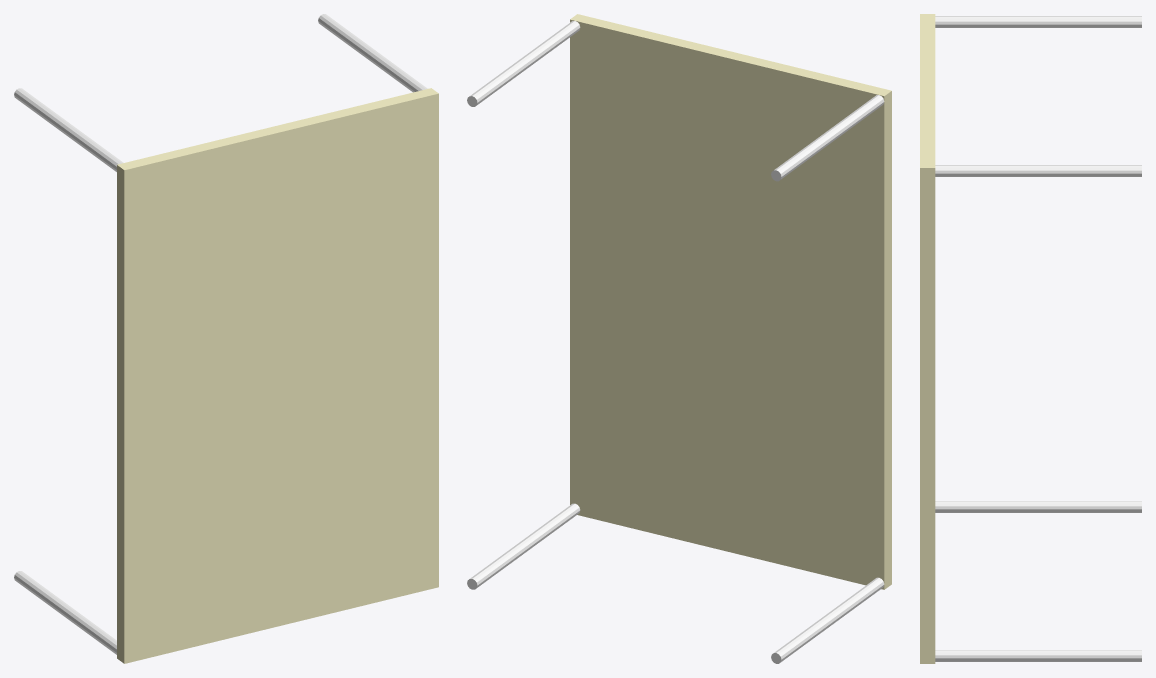
File: nil_link_mesh.dae
3 renders of one model, left to right at view 1: azimuth 30°, elevation 25°; view 2: azimuth 150°, elevation 25°; view 3: azimuth 270°, elevation 25°, orthographic.
Visible parts, largest first — view 1: nil_link (×4); view 2: nil_link (×5); view 3: nil_link (×5).
Boxes of the visible parts, x1,y1,x2,y2 form: nil_link (×4): (14,14,438,663); nil_link (×5): (467,14,891,663); nil_link (×5): (920,14,1141,663).
Bounding box in the file's own units: 1.2 × 1.8 × 0.73.
